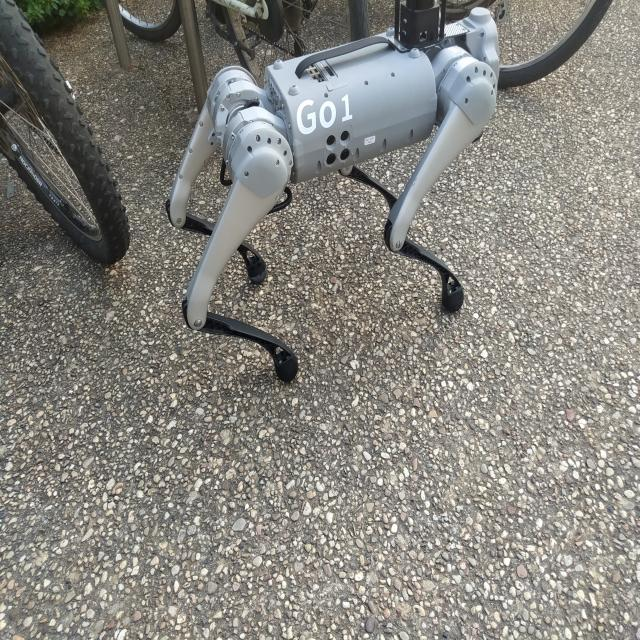unitree-go1-robot: (150, 0, 502, 368)
